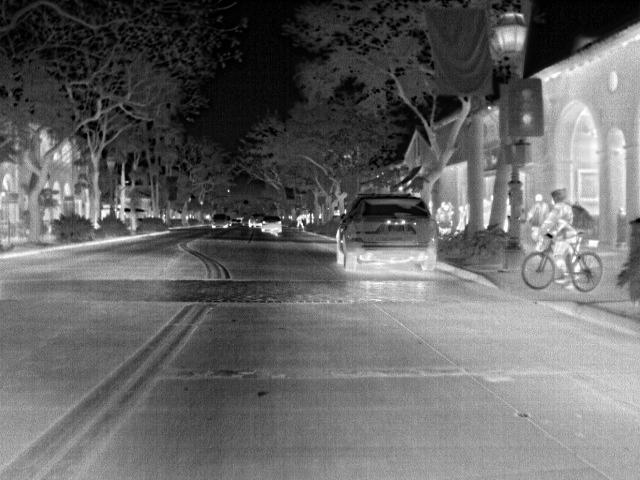car: (333, 193, 443, 275), (259, 215, 282, 235), (207, 213, 230, 230), (246, 212, 264, 230)
person: (542, 185, 583, 286), (526, 191, 550, 247), (451, 204, 467, 237), (437, 202, 452, 234), (292, 212, 305, 230)
